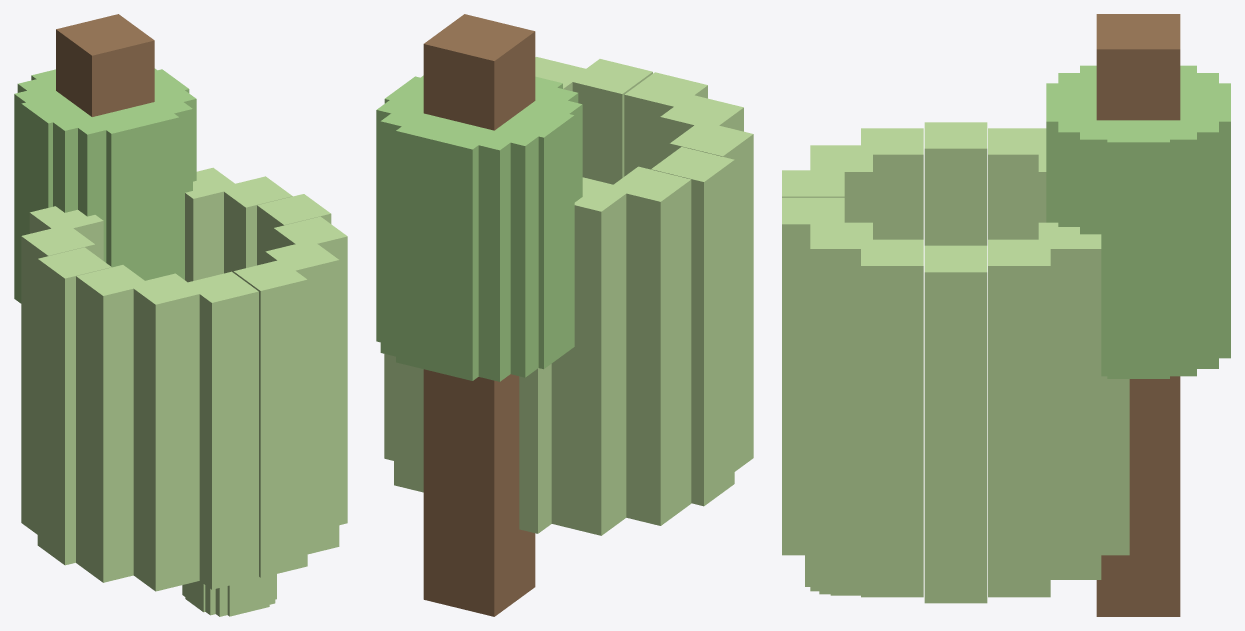
Rendered from voxel-jinan-willow.gltf.
3 views of the same model, side by side, from view 1: azimuth 30°, elevation 25°; view 2: azimuth 150°, elevation 25°; view 3: azimuth 270°, elevation 25° (orthographic). The views are drawn at different scales.
Size of the model in its own units: 0.68 by 1.2 by 0.86.
